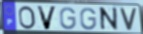G: (59, 7, 77, 31), (79, 7, 97, 31)
N: (100, 7, 120, 32)
O: (18, 5, 38, 31)
V: (36, 5, 59, 31), (119, 7, 139, 32)
